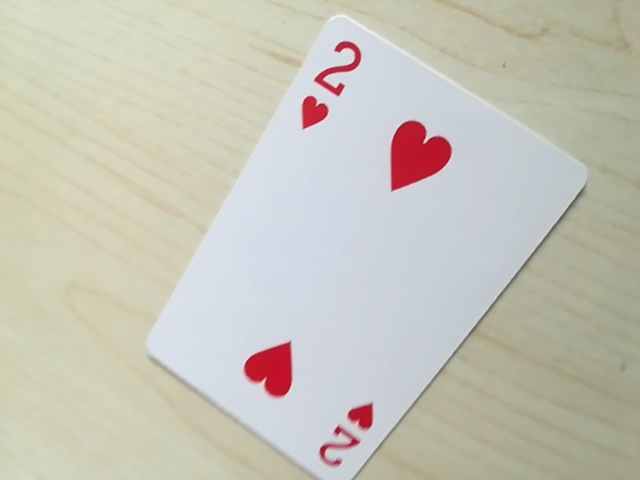hx 2: (294, 31, 369, 130), (310, 401, 379, 480)
